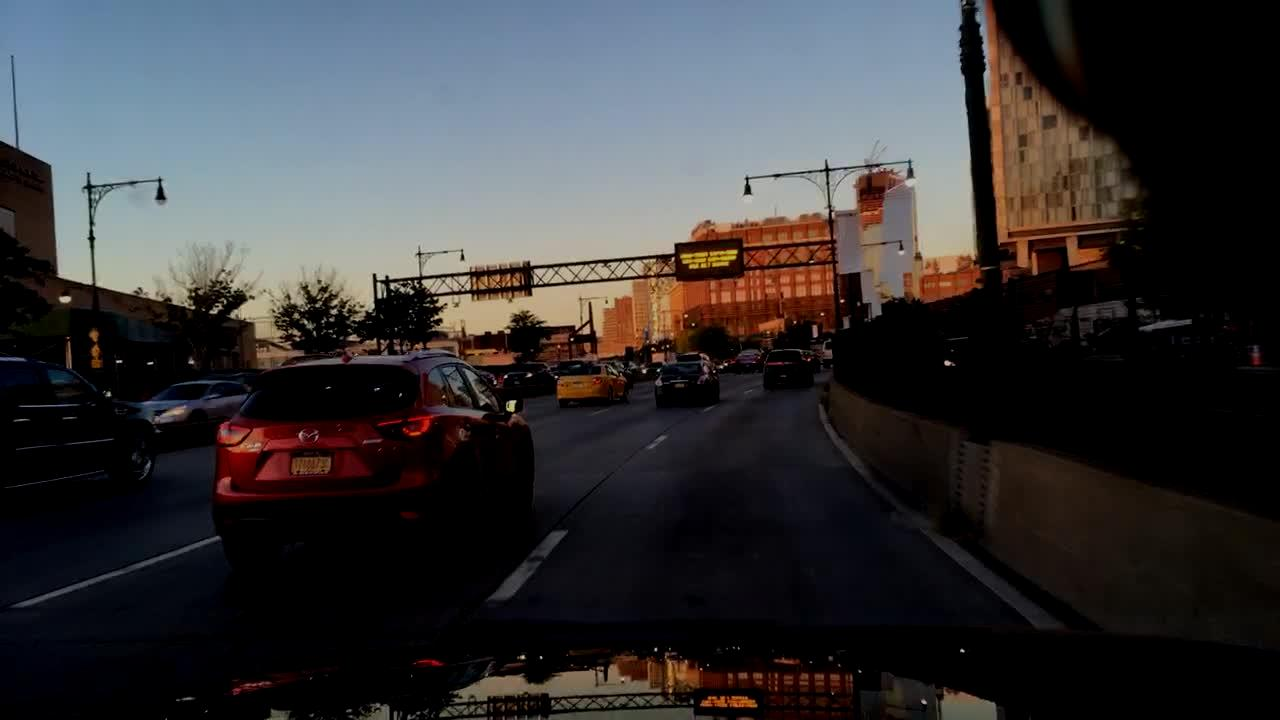Mazda: (296, 423, 321, 449)
